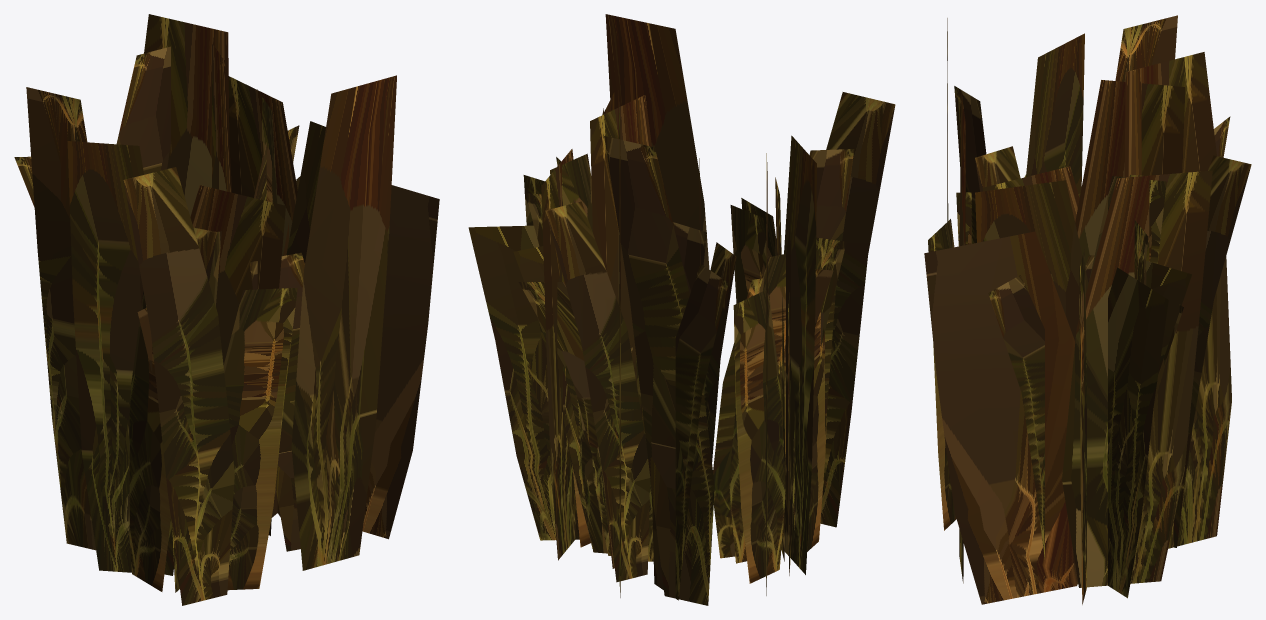
File: meadow_grass_001_c_LOD1.gltf
3 renders of one model, left to right at view 1: azimuth 30°, elevation 25°; view 2: azimuth 150°, elevation 25°; view 3: azimuth 270°, elevation 25°, orthographic. The views are drawn at different scales.
Visible parts, largest first — view 1: meadow_grass_001_c_LOD1; view 2: meadow_grass_001_c_LOD1; view 3: meadow_grass_001_c_LOD1.
Part boxes in pixels (x1,y1,x2,y2): meadow_grass_001_c_LOD1: (14,14,439,605); meadow_grass_001_c_LOD1: (468,14,895,605); meadow_grass_001_c_LOD1: (924,15,1251,604).
Size of the model in its own units: 0.8327 by 1.18 by 0.7178.
1 material, 1 textured.
